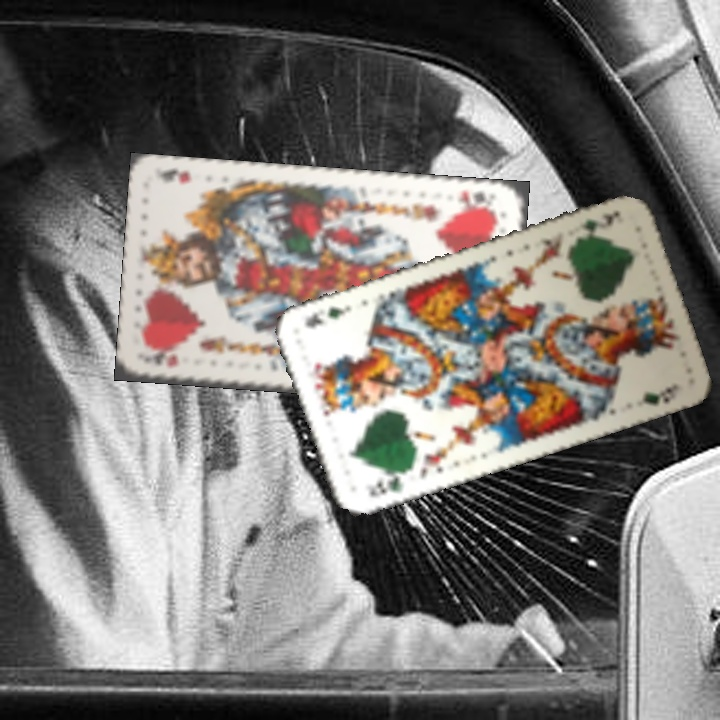GK: (573, 206, 623, 240), (362, 466, 409, 499)
HK: (453, 185, 498, 213), (147, 348, 181, 369)
